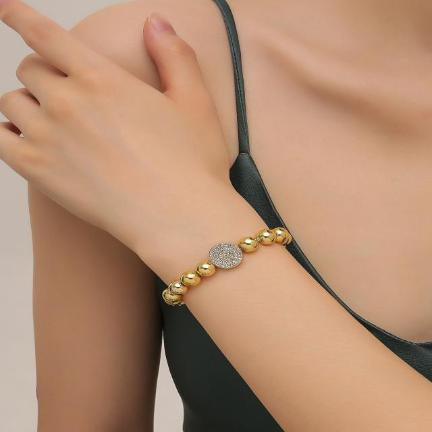Nail: (148, 10, 177, 37)
